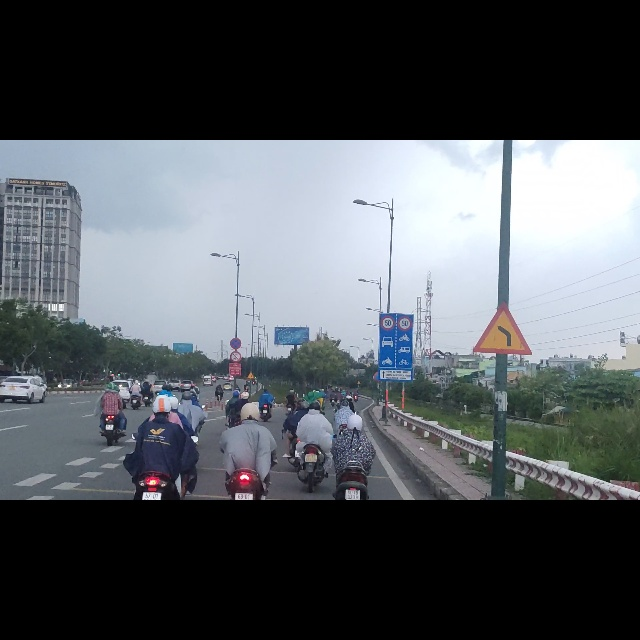bien_chi_dan: (472, 287, 534, 386), (380, 312, 395, 340), (397, 312, 412, 339), (230, 350, 242, 373), (229, 374, 241, 396), (247, 409, 255, 424)
